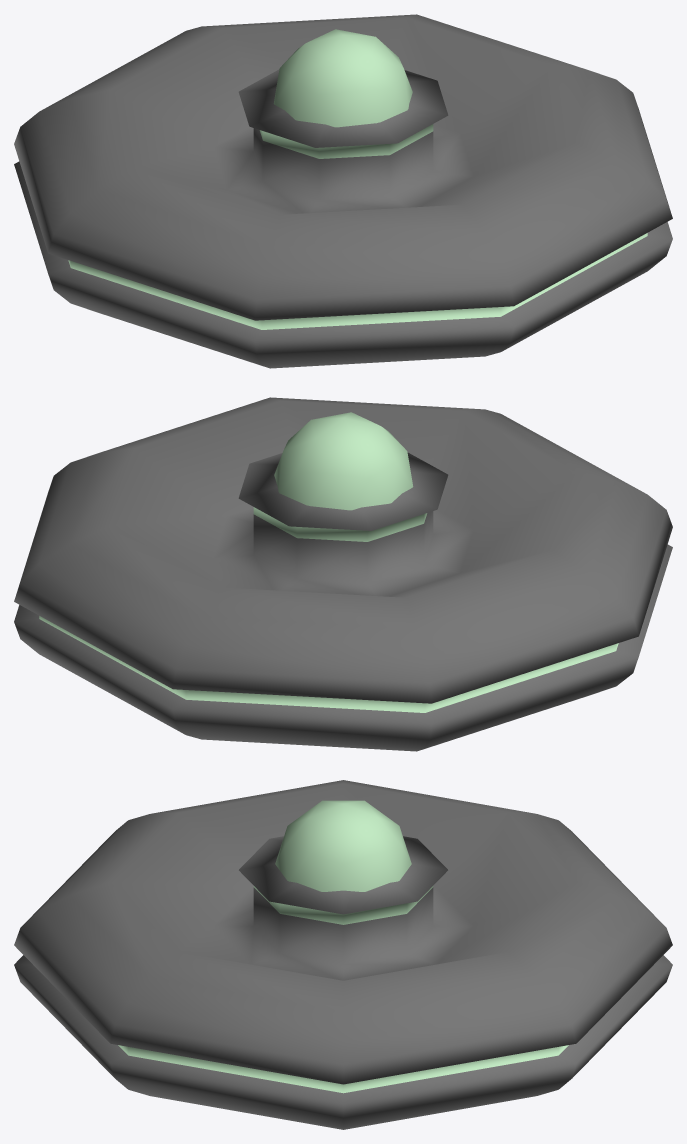
Rendered from spaceship_distant.fbx.
3 views of the same model, one above another, from view 1: azimuth 30°, elevation 25°; view 2: azimuth 150°, elevation 25°; view 3: azimuth 270°, elevation 25° (orthographic). The views are drawn at different scales.
Parts seen in each view (by area): view 1: Sphere_015; view 2: Sphere_015; view 3: Sphere_015.
Part boxes in pixels (x1,y1,x2,y2): Sphere_015: (14, 14, 672, 368); Sphere_015: (14, 397, 672, 751); Sphere_015: (14, 780, 672, 1129).
Size of the model in its own units: 4.72 by 2.09 by 4.72.
